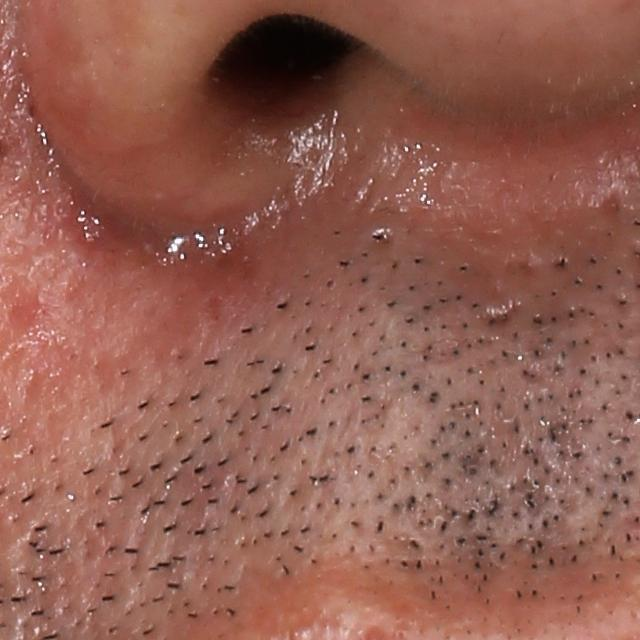atrophic_scar: (482, 299, 522, 330), (597, 189, 628, 225)
